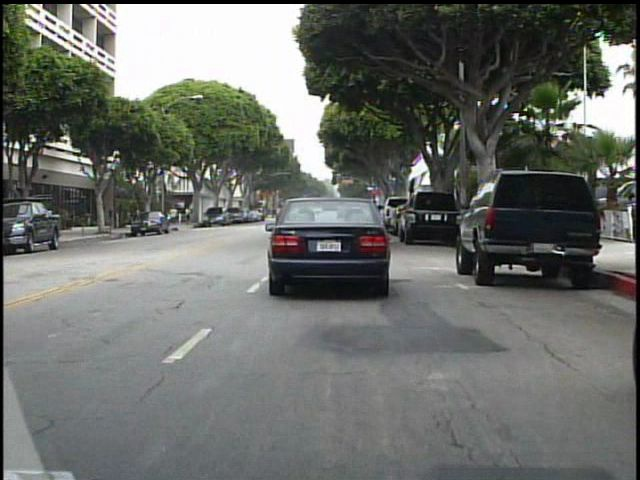person: (183, 202, 196, 228), (171, 205, 180, 225)
